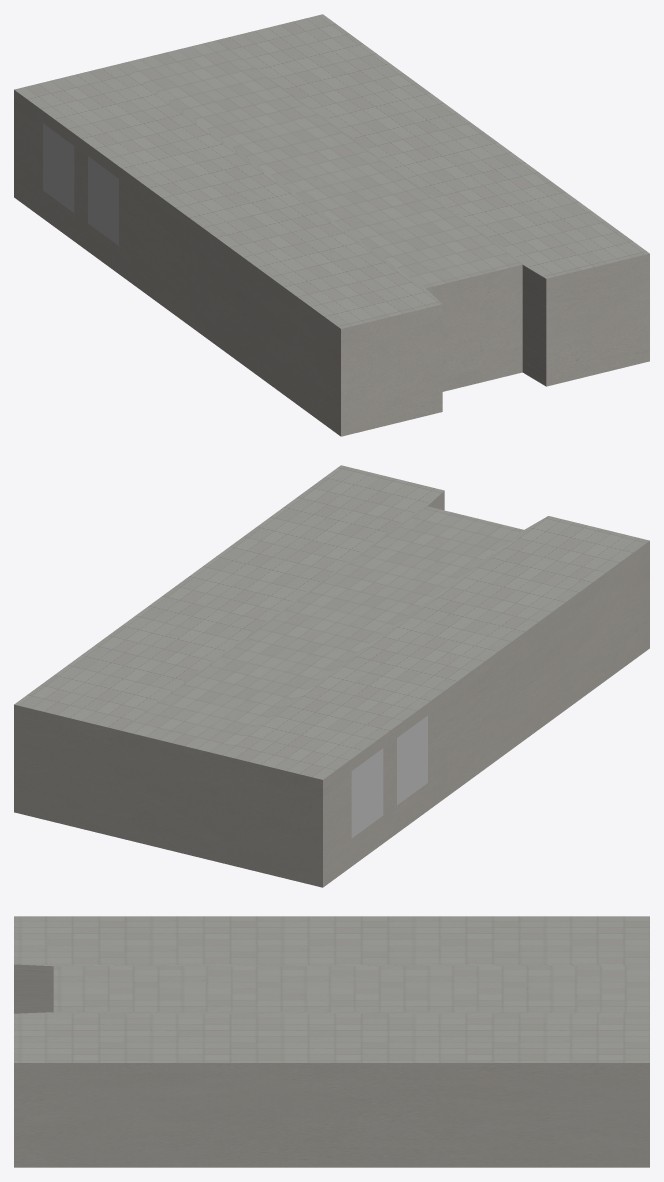
The model's file is Aula_L213.fbx.
3 renders of one model, top to bottom at view 1: azimuth 30°, elevation 25°; view 2: azimuth 150°, elevation 25°; view 3: azimuth 270°, elevation 25°, orthographic. The views are drawn at different scales.
Visible parts, largest first — view 1: Aulta_techo, Aula Paredes, Aula_ventanas; view 2: Aulta_techo, Aula Paredes, Aula_ventanas; view 3: Aulta_techo, Aula Paredes.
Part boxes in pixels (left/top/right/bottom): Aulta_techo: left=14, top=14, right=649, bottom=328; Aula Paredes: left=14, top=90, right=649, bottom=436; Aula_ventanas: left=43, top=123, right=118, bottom=245; Aulta_techo: left=14, top=465, right=649, bottom=779; Aula Paredes: left=14, top=491, right=649, bottom=887; Aula_ventanas: left=351, top=715, right=427, bottom=838; Aulta_techo: left=14, top=916, right=649, bottom=1062; Aula Paredes: left=14, top=964, right=649, bottom=1167.
Bounding box in the file's own units: 1200 × 400 × 2200.
